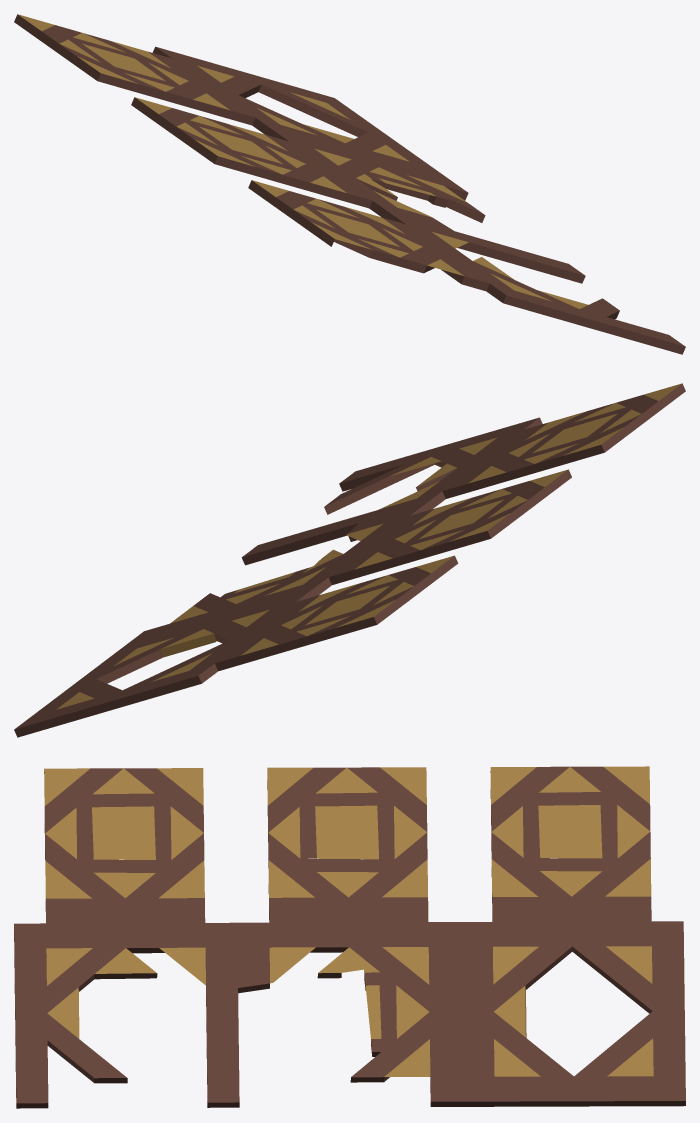
File: Parquet_Broken04.fbx
3 renders of one model, top to bottom at view 1: azimuth 30°, elevation 25°; view 2: azimuth 150°, elevation 25°; view 3: azimuth 270°, elevation 25°, orthographic. The views are drawn at different scales.
Parts seen in each view (by area): view 1: Cube.044; view 2: Cube.044; view 3: Cube.044.
Part boxes in pixels (bbox=[...]): Cube.044: bbox=[14, 14, 685, 354]; Cube.044: bbox=[14, 383, 685, 737]; Cube.044: bbox=[14, 766, 685, 1108].
Size of the model in its own units: 173 by 89.63 by 299.
